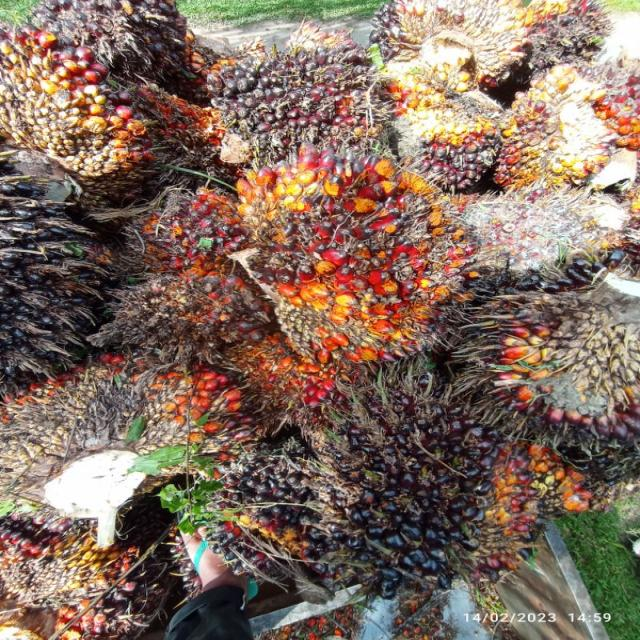fraksi 00: (212, 372, 574, 612), (435, 266, 640, 518)
fraksi 1: (194, 27, 411, 174), (384, 79, 522, 219)
fraksi 3: (206, 123, 504, 376), (91, 178, 274, 369)
